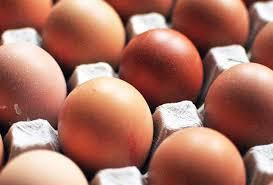egg: (54, 74, 152, 172), (120, 26, 208, 106), (0, 44, 70, 132), (204, 61, 273, 148), (149, 124, 247, 184), (47, 0, 125, 71)
